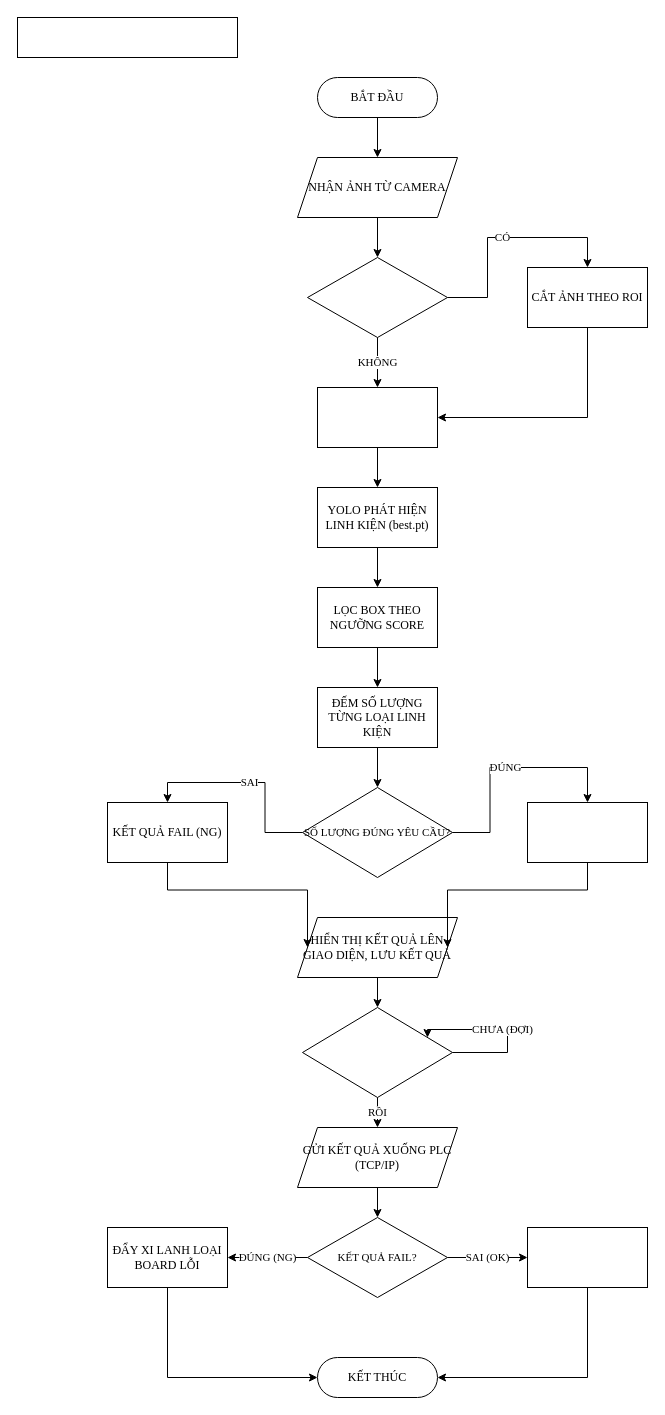
Some shapes in this 665 by 1415 pixel diagram are drawn without their labels. Each missing label, with the box of its shape:
BOARD ĐÃ ĐI QUA CẢM BIẾN S2?: (302, 1006, 452, 1098)
CHO BOARD ĐI QUA: (526, 1226, 648, 1288)
CÓ CHỌN ROI?: (306, 256, 448, 338)
KẾT QUẢ PASS (OK): (526, 802, 648, 862)
LƯU ĐỒ GIẢI THUẬT XỬ LÝ ẢNH: (16, 16, 238, 58)
RESIZE ẢNH VỀ KÍCH THƯỚC IMGSZ: (316, 386, 438, 448)
